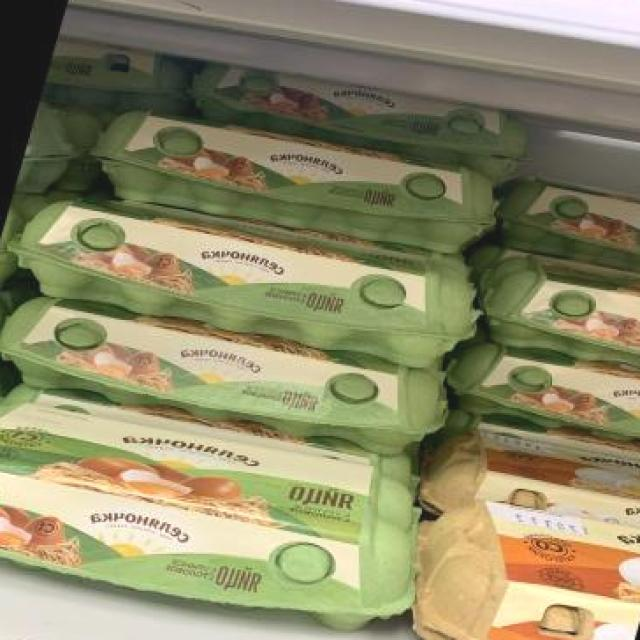egg: (0, 392, 457, 637), (0, 185, 501, 372), (0, 295, 466, 459), (71, 106, 516, 262), (178, 58, 538, 174), (388, 490, 640, 640), (432, 337, 640, 450), (420, 424, 640, 530), (466, 248, 640, 380), (490, 170, 640, 284), (40, 36, 188, 120), (12, 100, 78, 208)
